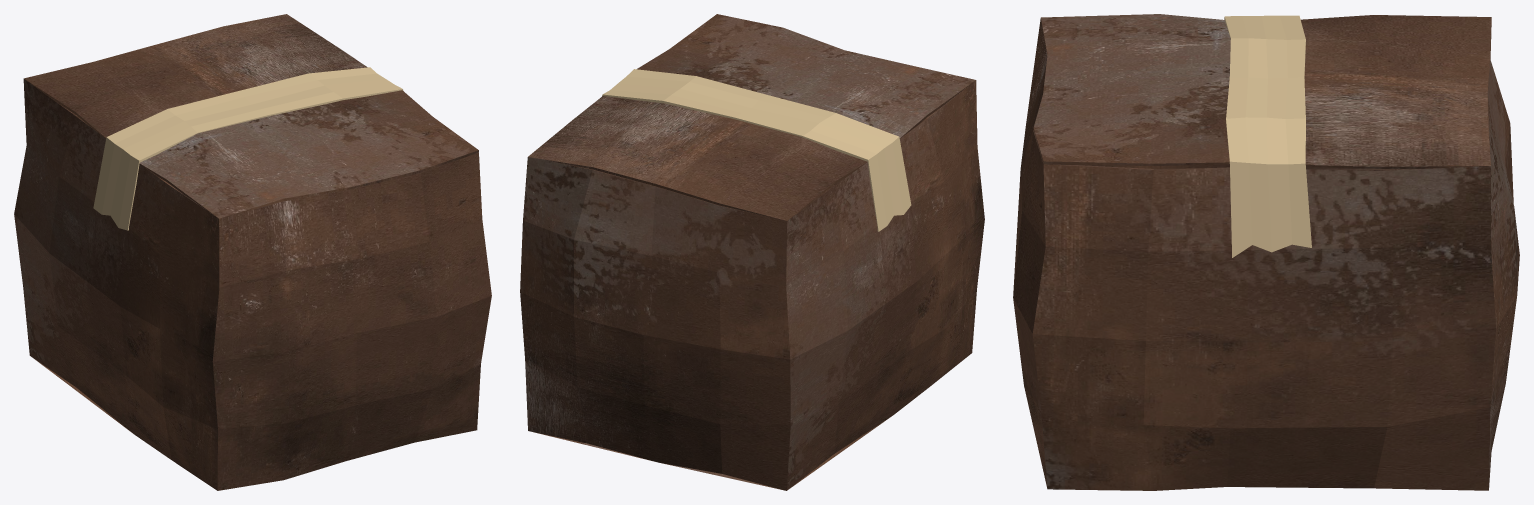
The model's file is final_update.fbx.
3 views of the same model, side by side, from view 1: azimuth 30°, elevation 25°; view 2: azimuth 150°, elevation 25°; view 3: azimuth 270°, elevation 25° (orthographic). The views are drawn at different scales.
Visible parts, largest first — view 1: Cube; view 2: Cube; view 3: Cube.
Boxes of the visible parts, x1,y1,x2,y2 form: Cube: [14, 14, 491, 490]; Cube: [520, 14, 984, 490]; Cube: [1013, 14, 1519, 490].
Size of the model in its own units: 51.76 by 47.89 by 64.75.
